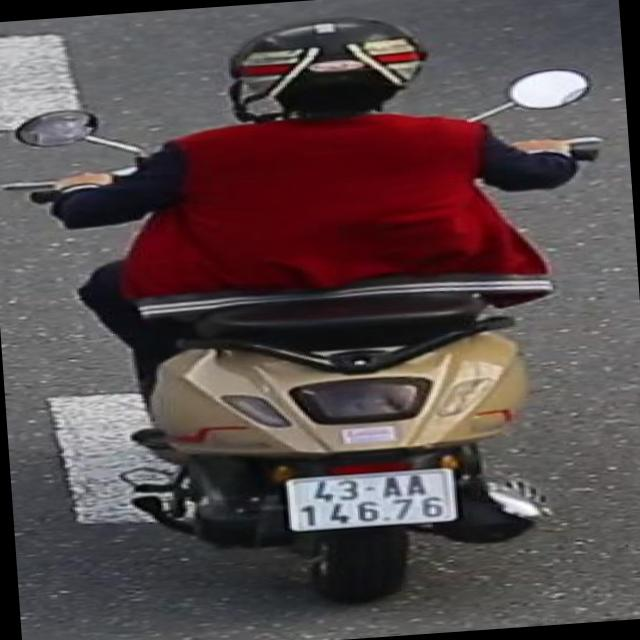LP: (276, 457, 468, 540)
helmet: (218, 3, 422, 127)
